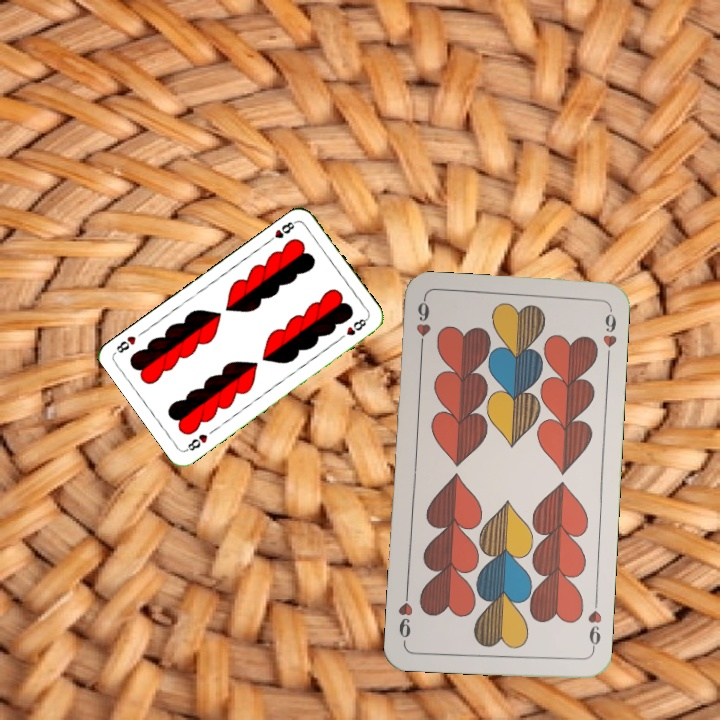H8: (264, 216, 299, 245), (182, 430, 210, 454)
H9: (412, 296, 433, 355), (584, 595, 604, 654)
